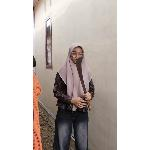Golok: (76, 56, 94, 110)
